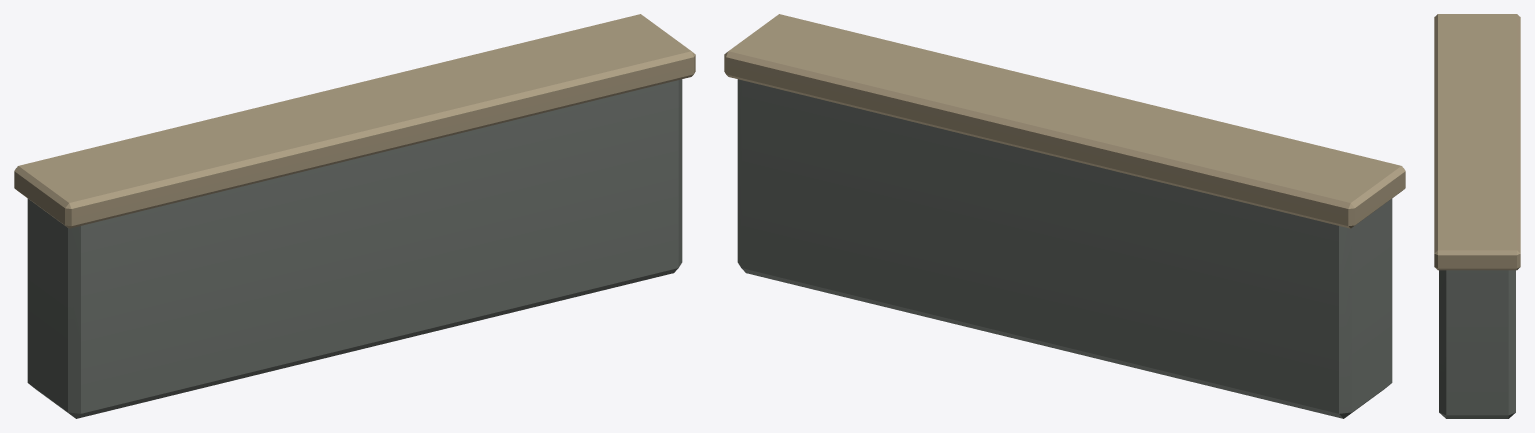
Rendered from low_wall.glb.
3 views of the same model, side by side, from view 1: azimuth 30°, elevation 25°; view 2: azimuth 150°, elevation 25°; view 3: azimuth 270°, elevation 25° (orthographic). The views are drawn at different scales.
Parts seen in each view (by area): view 1: low_wall; view 2: low_wall; view 3: low_wall.
Part boxes in pixels (<box>): low_wall: <box>14,14,695,418</box>; low_wall: <box>724,14,1405,418</box>; low_wall: <box>1434,14,1520,418</box>.
Size of the model in its own units: 3.08 by 1.04 by 0.47.
